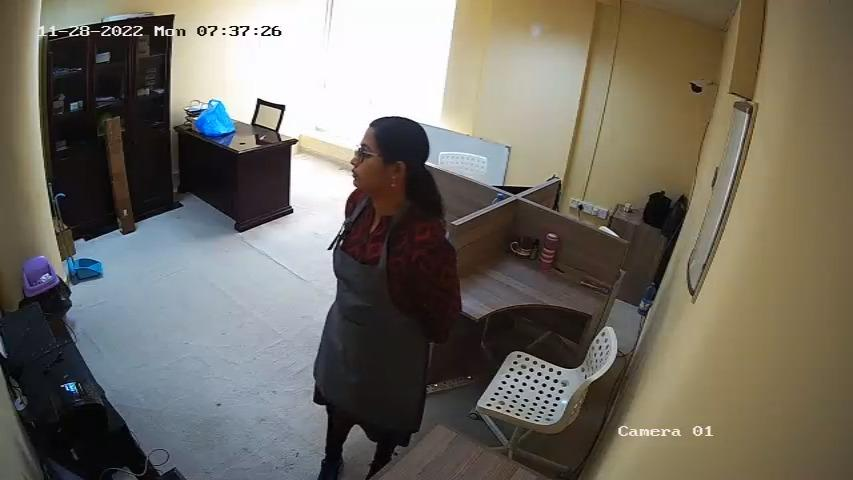apron: (312, 206, 425, 416)
